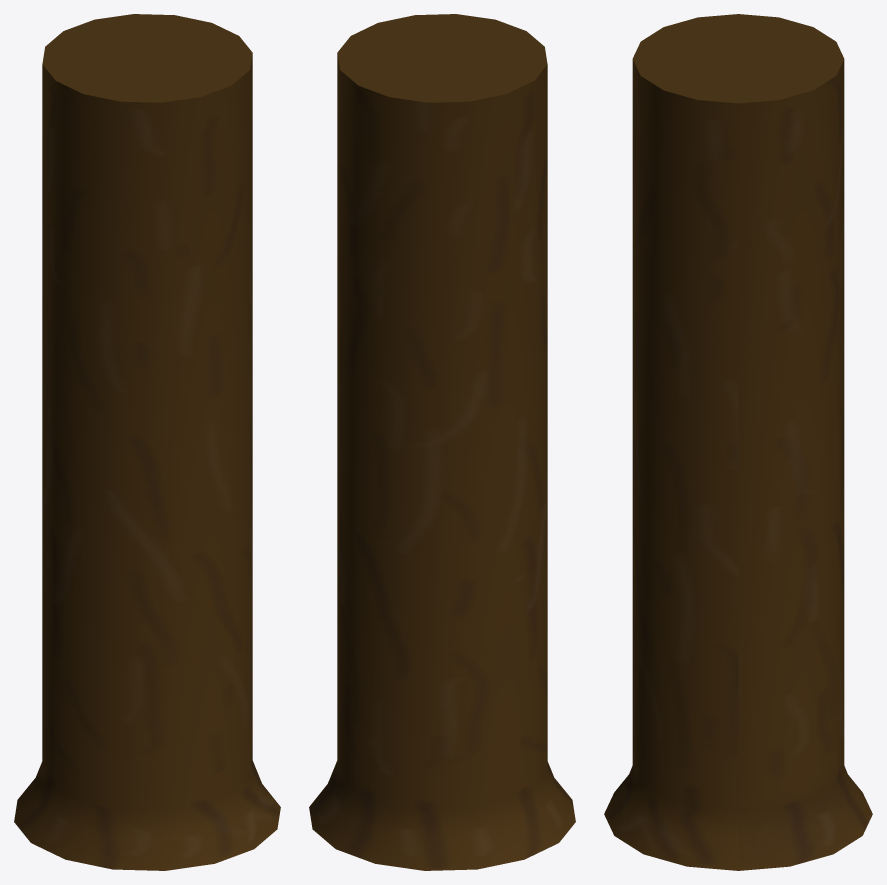
File: SD_TreeTrunkV2.fbx
3 renders of one model, left to right at view 1: azimuth 30°, elevation 25°; view 2: azimuth 150°, elevation 25°; view 3: azimuth 270°, elevation 25°, orthographic.
Parts seen in each view (by area): view 1: SD_TreeTrunkV2; view 2: SD_TreeTrunkV2; view 3: SD_TreeTrunkV2.
Boxes of the visible parts, x1,y1,x2,y2 form: SD_TreeTrunkV2: (14,14,280,870); SD_TreeTrunkV2: (309,14,575,870); SD_TreeTrunkV2: (604,14,872,870).
Bounding box in the file's own units: 150 × 465 × 150.
Materials: 1 (1 with a texture image).
